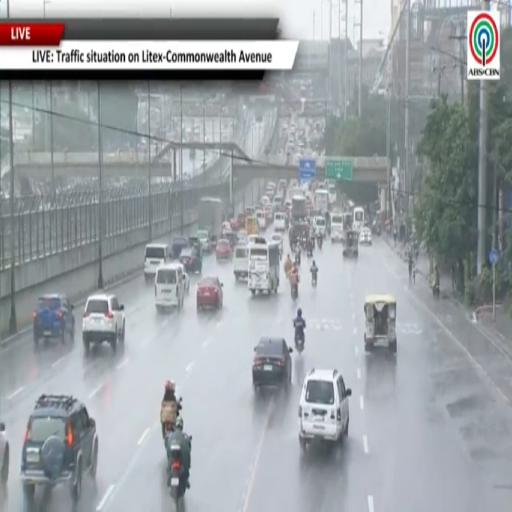bus: (248, 238, 279, 294), (352, 207, 364, 231)
car: (21, 395, 98, 505), (299, 368, 351, 449), (83, 295, 125, 353), (33, 294, 74, 346), (253, 338, 292, 391), (197, 277, 223, 311), (0, 422, 9, 500), (180, 248, 202, 274), (176, 262, 190, 294), (171, 237, 188, 259), (216, 239, 232, 260), (197, 230, 211, 252), (271, 233, 283, 253), (188, 236, 202, 253), (359, 228, 371, 245), (237, 230, 247, 245), (248, 235, 260, 245), (230, 218, 239, 231)
motorcycle: (169, 444, 187, 510), (162, 397, 182, 442), (295, 331, 305, 354), (433, 284, 440, 299), (291, 284, 297, 300), (317, 235, 323, 249), (301, 237, 307, 250), (295, 252, 300, 266), (312, 272, 317, 286), (307, 246, 312, 258)
truck: (198, 198, 224, 244), (314, 189, 329, 215), (292, 196, 308, 219)
